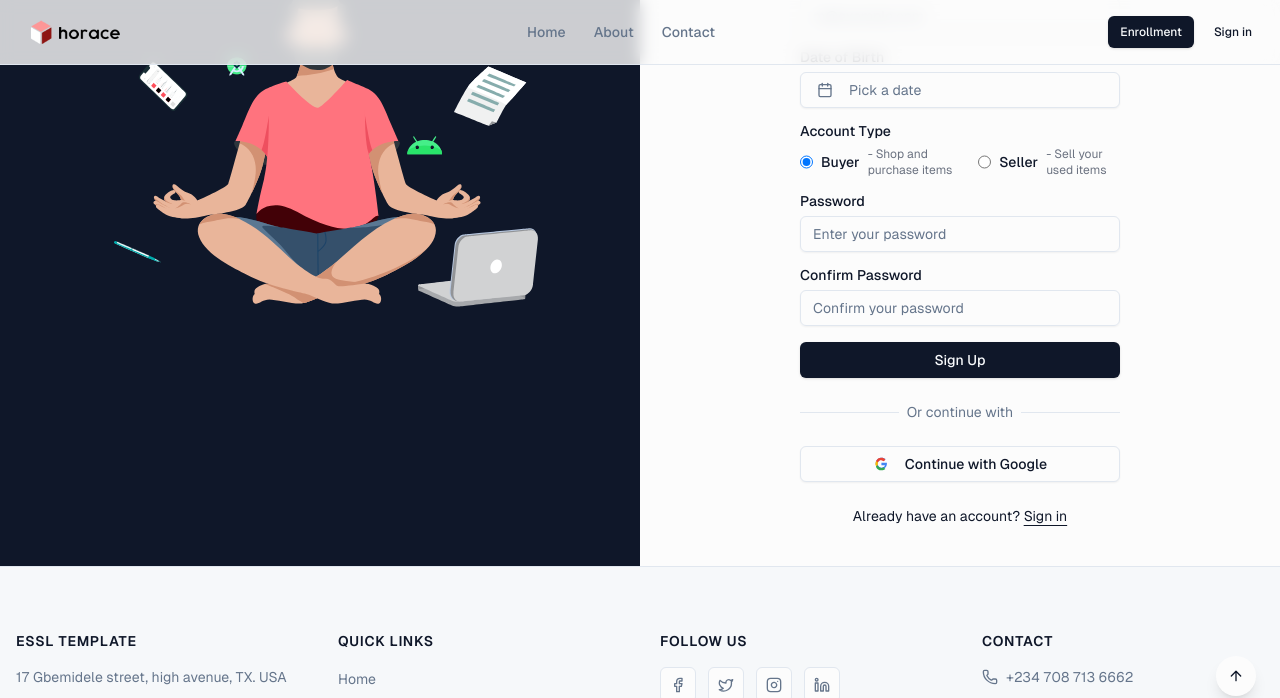
Register page › Validation – edge cases › shows errors when submitting empty form
(page scrolled)
Step 1. Click the button "Sign Up" → (960, 360), box [800,342,1120,378]
(page scrolled)
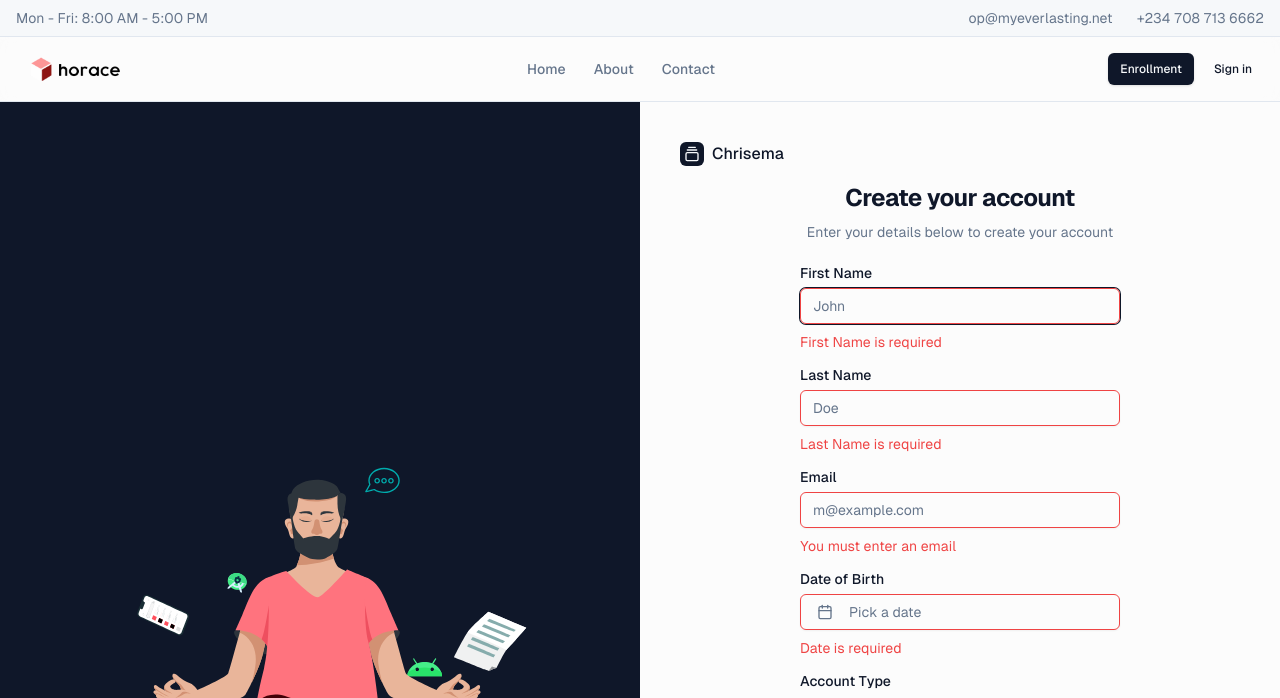
Expected: the text "First Name" is shown, [800,265,872,281]
Result: the text "First Name is required" is shown at [800,334,942,350]
